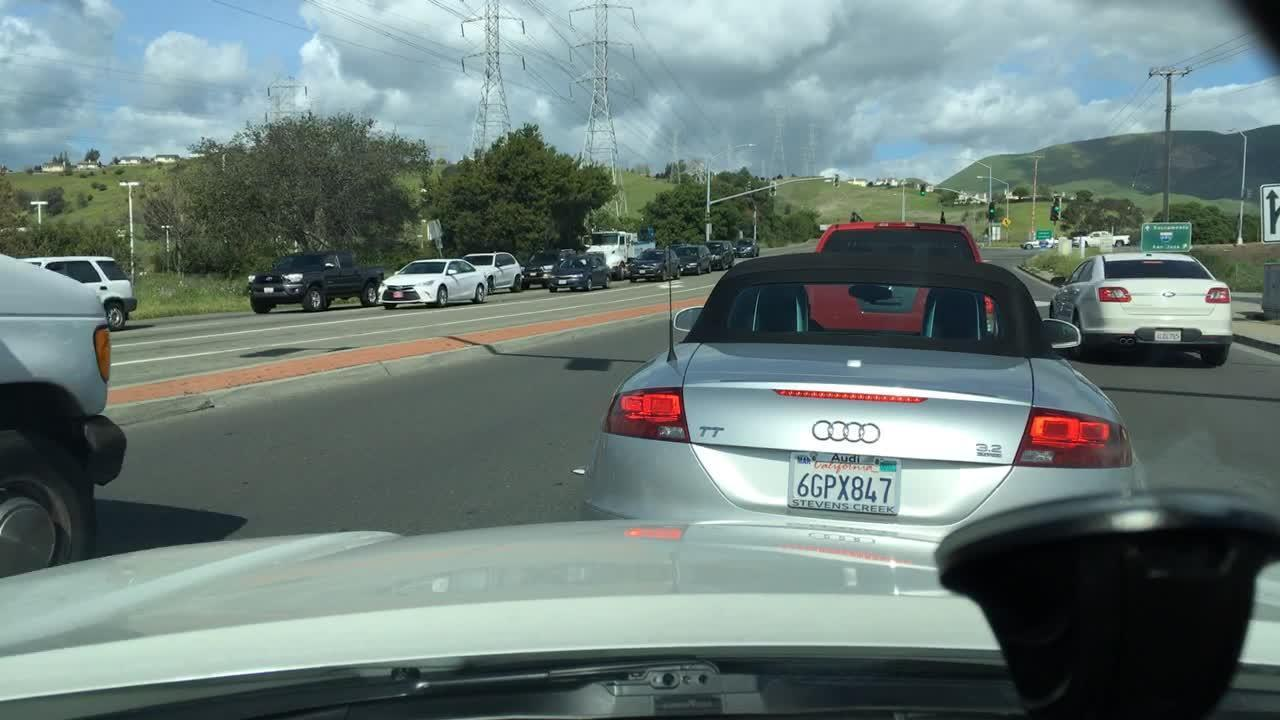Audi: (803, 417, 891, 449)
